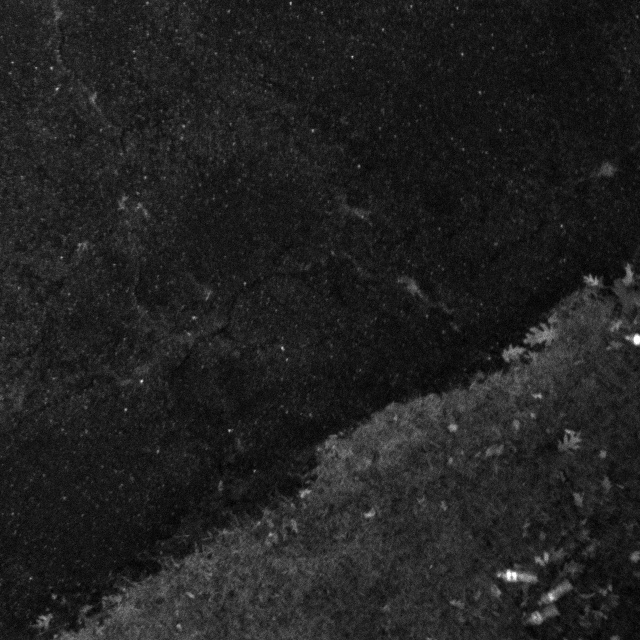bottle: (494, 567, 540, 593), (533, 583, 576, 603)
